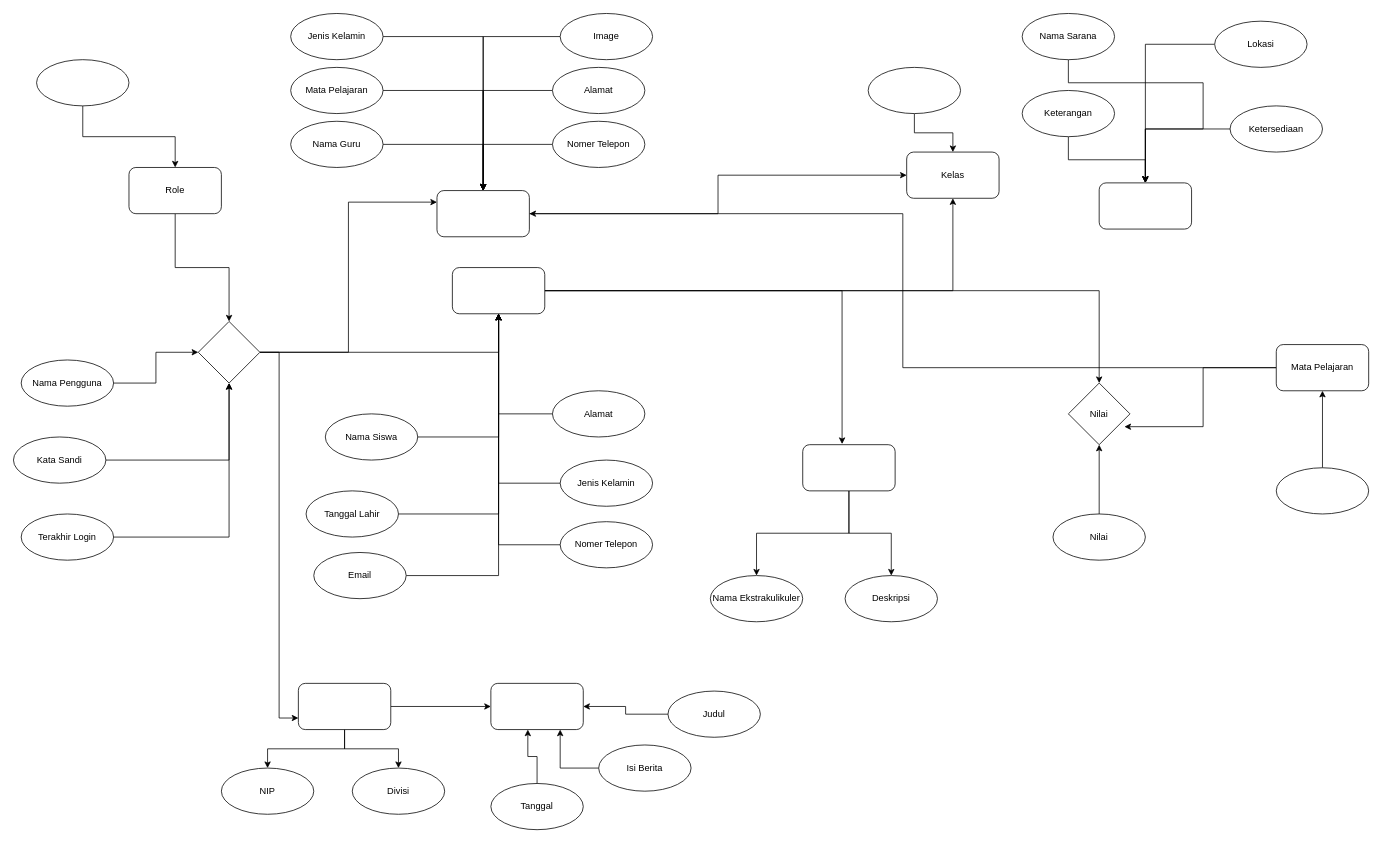
The diagram is 1382 pixels wide and 843 high, and some of its shapes have lost their labels. The shapes that lost their labels are listed below. From the top down, each one's centre as x and y in pixels, then its label:
At point (82, 82): "Nama Peran".
At point (914, 90): "Nama Kelas".
At point (482, 213): "Guru".
At point (1145, 205): "Sarana".
At point (498, 290): "Siswa".
At point (229, 352): "Users".
At point (848, 467): "Ekstrakulikuler".
At point (1322, 490): "Nama Mata Pelajaran".
At point (344, 706): "Staff".
At point (536, 706): "Berita".
